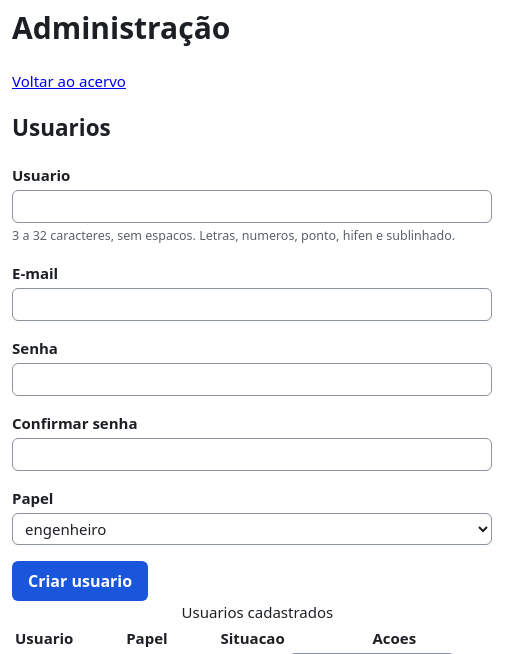
Test: criacao de usuario › recusa quando a confirmacao de senha nao confere
Expected: the heading "Usuarios" is shown, [12, 112, 111, 143]
Type "novo" into the field labelled "Usuario". click: (252, 207)
box: [12, 190, 492, 223]
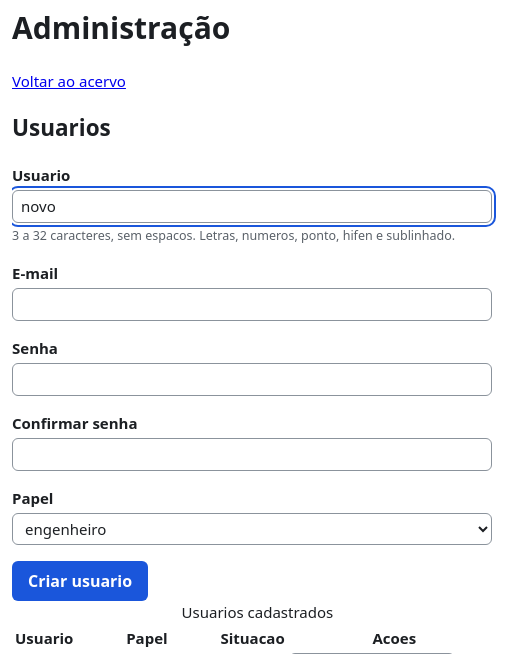
Type "novo@exemplo.com" into the field labelled "E-mail". click: (252, 304)
box: [12, 288, 492, 320]
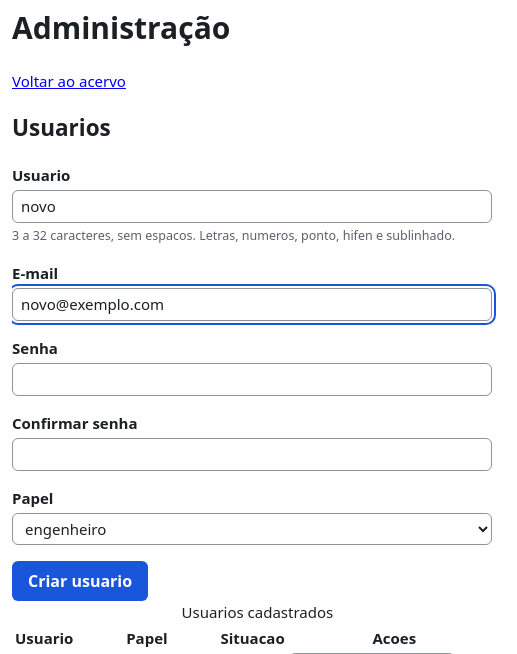
Type "senha-correta-123" into the password field labelled "Senha". click: (252, 379)
box: [12, 363, 492, 396]
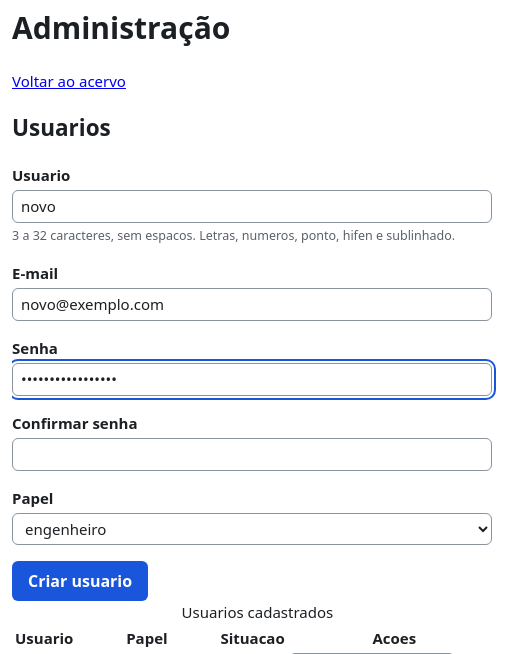
Type "senha-diferente-123" into the password field labelled "Confirmar senha". click: (252, 454)
box: [12, 438, 492, 470]
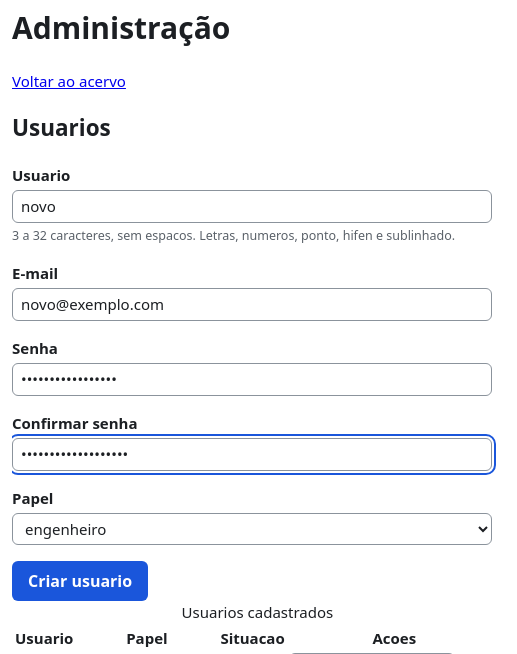
Click the button "Criar usuario". click: (80, 581)
box: [12, 561, 148, 601]
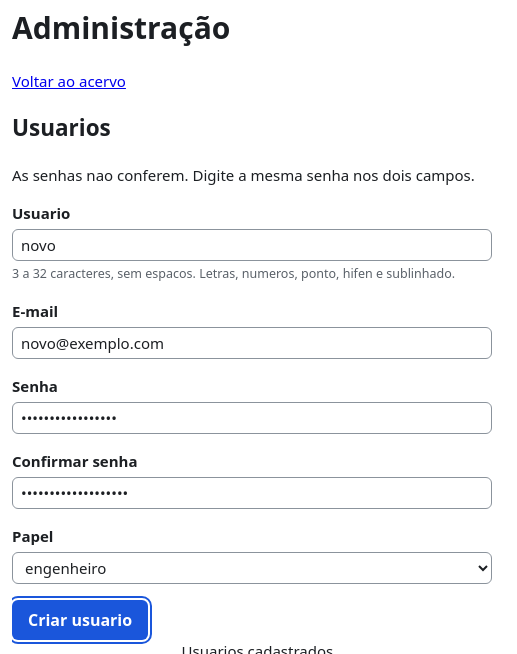
Now the message shows "nao conferem", box [12, 165, 475, 185]
